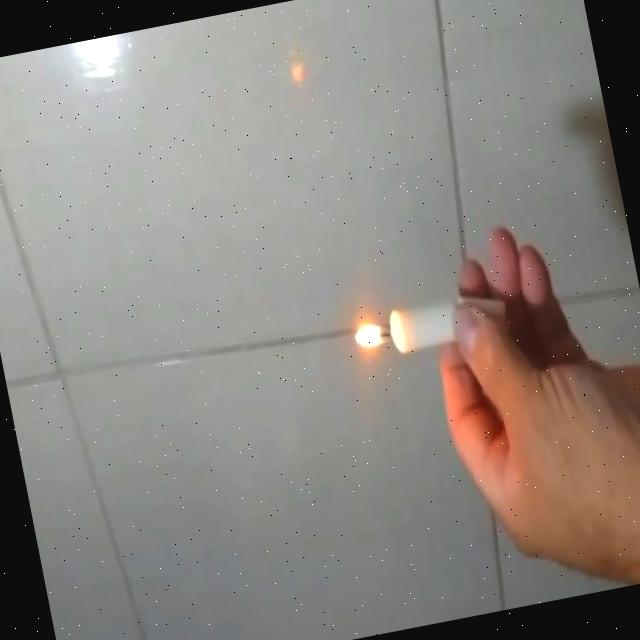fire: (347, 310, 393, 359)
